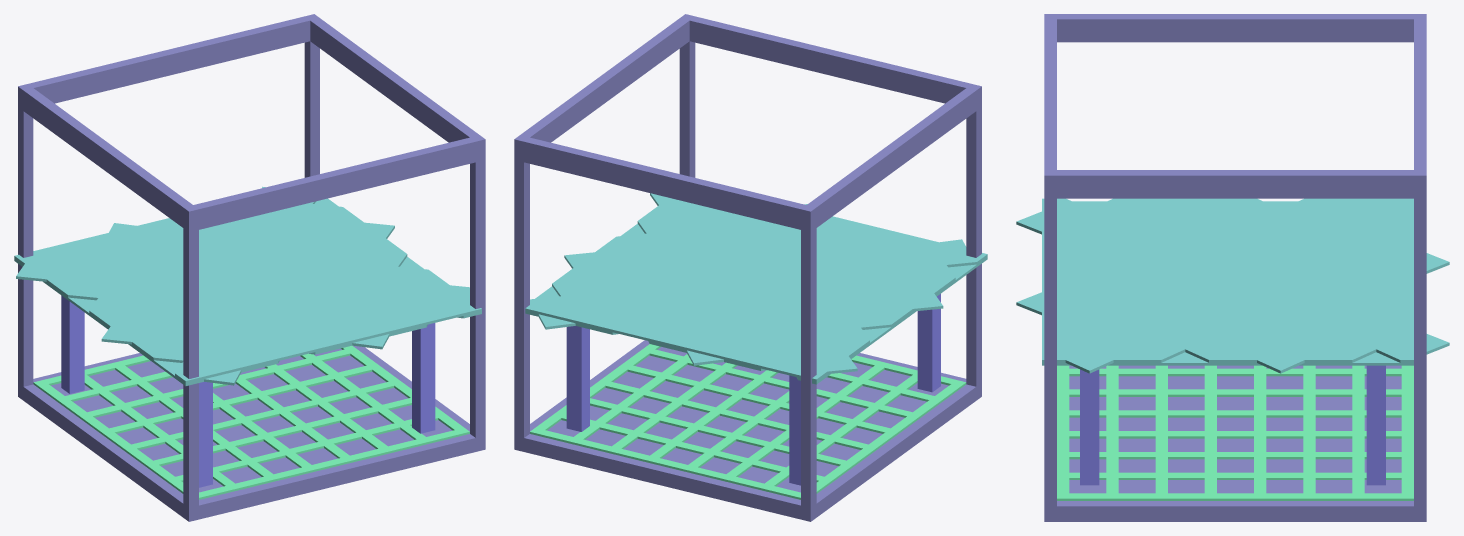
3 views of the same model, side by side, from view 1: azimuth 30°, elevation 25°; view 2: azimuth 150°, elevation 25°; view 3: azimuth 270°, elevation 25° (orthographic). The views are drawn at different scales.
Visible parts, largest first — view 1: 物件_53, 物件_60, 物件_59, 物件_58, 物件_61, 物件_56, 物件_54, 物件_57, 物件_32, 物件_44, 物件_35, 物件_37 (+33 smaller); view 2: 物件_53, 物件_59, 物件_60, 物件_58, 物件_61, 物件_57, 物件_55, 物件_56, 物件_46, 物件_33, 物件_37, 物件_21 (+33 smaller); view 3: 物件_53, 物件_61, 物件_58, 物件_37, 物件_26, 物件_21, 物件_54, 物件_55, 物件_35, 物件_33, 物件_46, 物件_32 (+31 smaller).
Part boxes in pixels (left/top/right/bottom): 物件_53: left=18, top=345, right=485, bottom=521; 物件_60: left=185, top=135, right=485, bottom=231; 物件_59: left=18, top=15, right=318, bottom=107; 物件_58: left=18, top=86, right=198, bottom=232; 物件_61: left=305, top=14, right=485, bottom=161; 物件_56: left=183, top=205, right=198, bottom=507; 物件_54: left=470, top=135, right=485, bottom=437; 物件_57: left=18, top=86, right=33, bottom=386; 物件_32: left=217, top=313, right=333, bottom=365; 物件_44: left=14, top=237, right=130, bottom=289; 物件_35: left=365, top=277, right=481, bottom=329; 物件_37: left=280, top=215, right=395, bottom=263; 物件_53: left=514, top=340, right=981, bottom=521; 物件_59: left=514, top=136, right=816, bottom=231; 物件_60: left=680, top=14, right=981, bottom=110; 物件_58: left=801, top=88, right=981, bottom=231; 物件_61: left=515, top=14, right=694, bottom=158; 物件_57: left=801, top=205, right=816, bottom=507; 物件_55: left=514, top=136, right=529, bottom=437; 物件_56: left=966, top=86, right=981, bottom=386; 物件_46: left=594, top=294, right=710, bottom=345; 物件_33: left=828, top=267, right=944, bottom=318; 物件_37: left=563, top=244, right=679, bottom=293; 物件_21: left=680, top=231, right=795, bottom=280; 物件_53: left=1044, top=365, right=1426, bottom=521; 物件_61: left=1044, top=170, right=1426, bottom=198; 物件_58: left=1044, top=14, right=1426, bottom=42; 物件_37: left=1233, top=309, right=1328, bottom=373; 物件_26: left=1233, top=228, right=1328, bottom=289; 物件_21: left=1137, top=268, right=1232, bottom=330; 物件_54: left=1044, top=170, right=1056, bottom=506; 物件_55: left=1414, top=170, right=1426, bottom=506; 物件_35: left=1042, top=309, right=1137, bottom=373; 物件_33: left=1137, top=198, right=1232, bottom=249; 物件_46: left=1328, top=268, right=1413, bottom=330; 物件_32: left=1042, top=228, right=1137, bottom=289.
Size of the model in its own units: 54.4 by 48 by 54.4.
